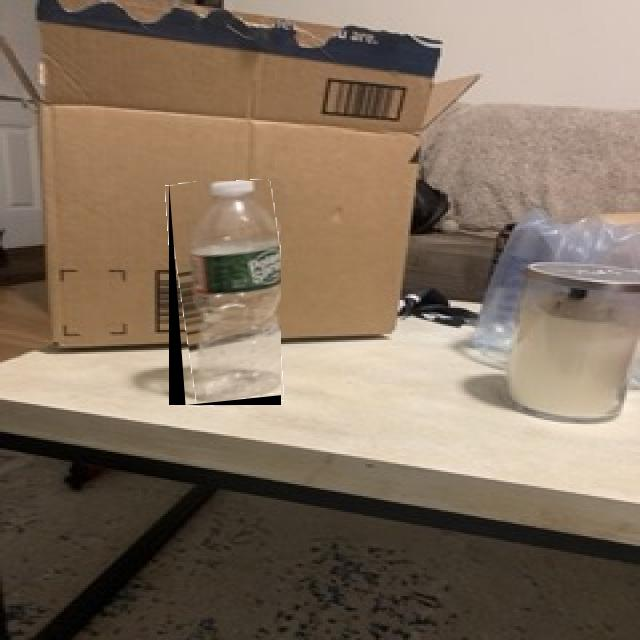water_bottle: (169, 181, 281, 405)
